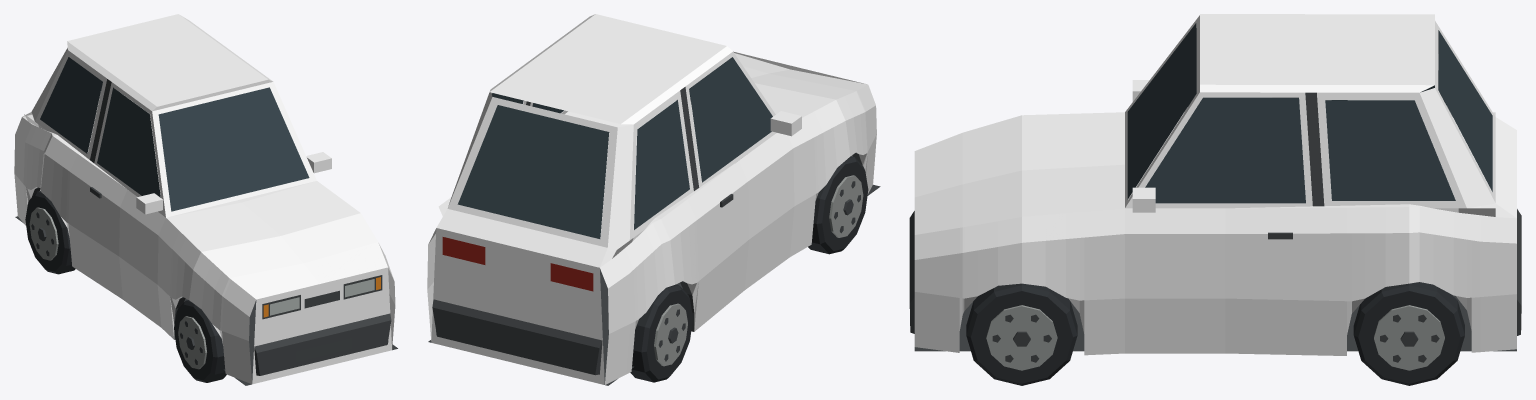
The model's file is kosame_matsuri.glb.
3 renders of one model, left to right at view 1: azimuth 30°, elevation 25°; view 2: azimuth 150°, elevation 25°; view 3: azimuth 270°, elevation 25°, orthographic. The views are drawn at different scales.
Visible parts, largest first — view 1: kosame_matsuri; view 2: kosame_matsuri; view 3: kosame_matsuri.
Part boxes in pixels (left/top/right/bottom): kosame_matsuri: left=14, top=14, right=397, bottom=385; kosame_matsuri: left=427, top=14, right=880, bottom=385; kosame_matsuri: left=909, top=14, right=1521, bottom=385.
Size of the model in its own units: 1.47 by 1.63 by 3.19.
Materials: 8 (1 with a texture image).
